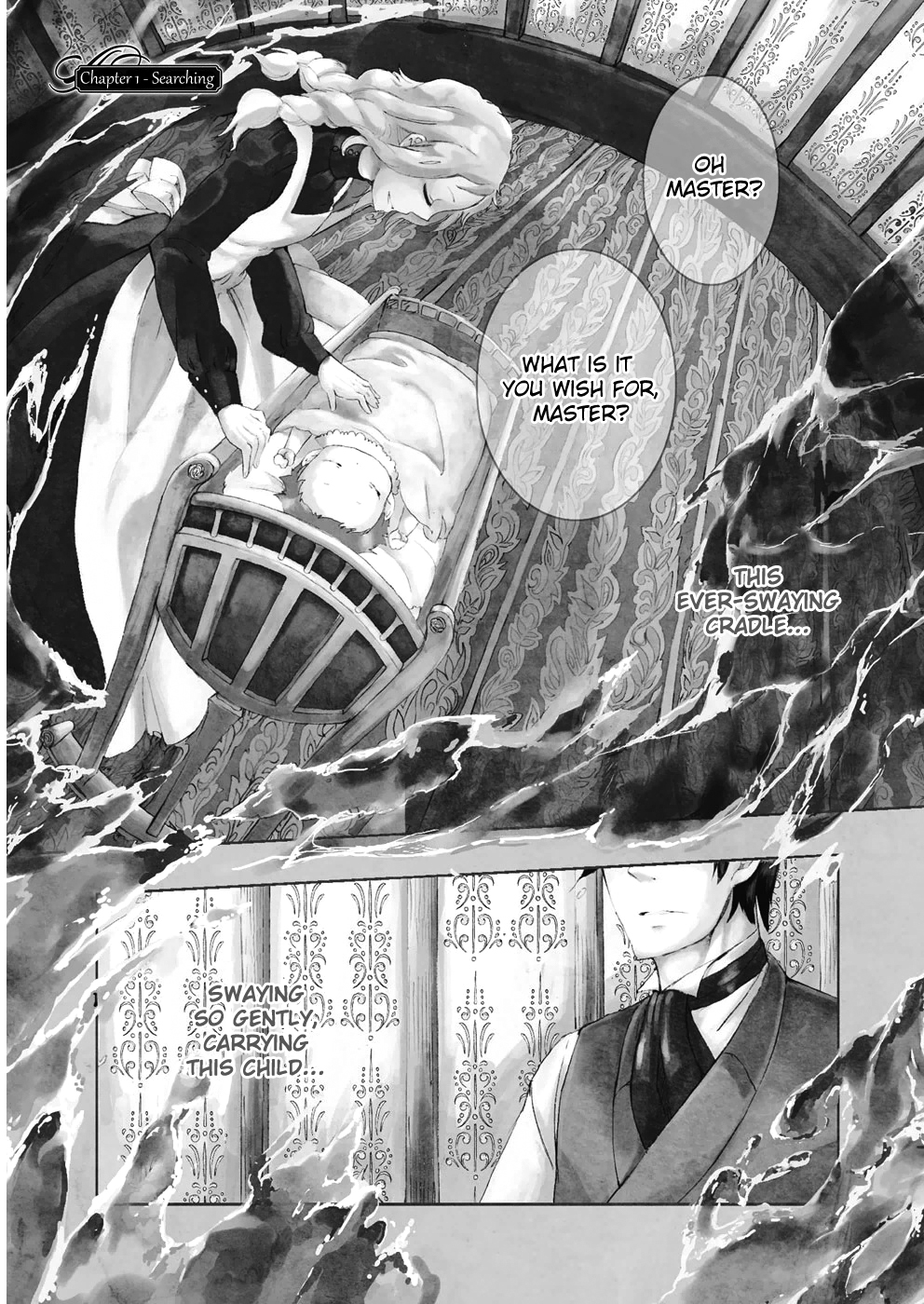bubble: (476, 249, 675, 520), (643, 76, 779, 287), (80, 64, 218, 93)
